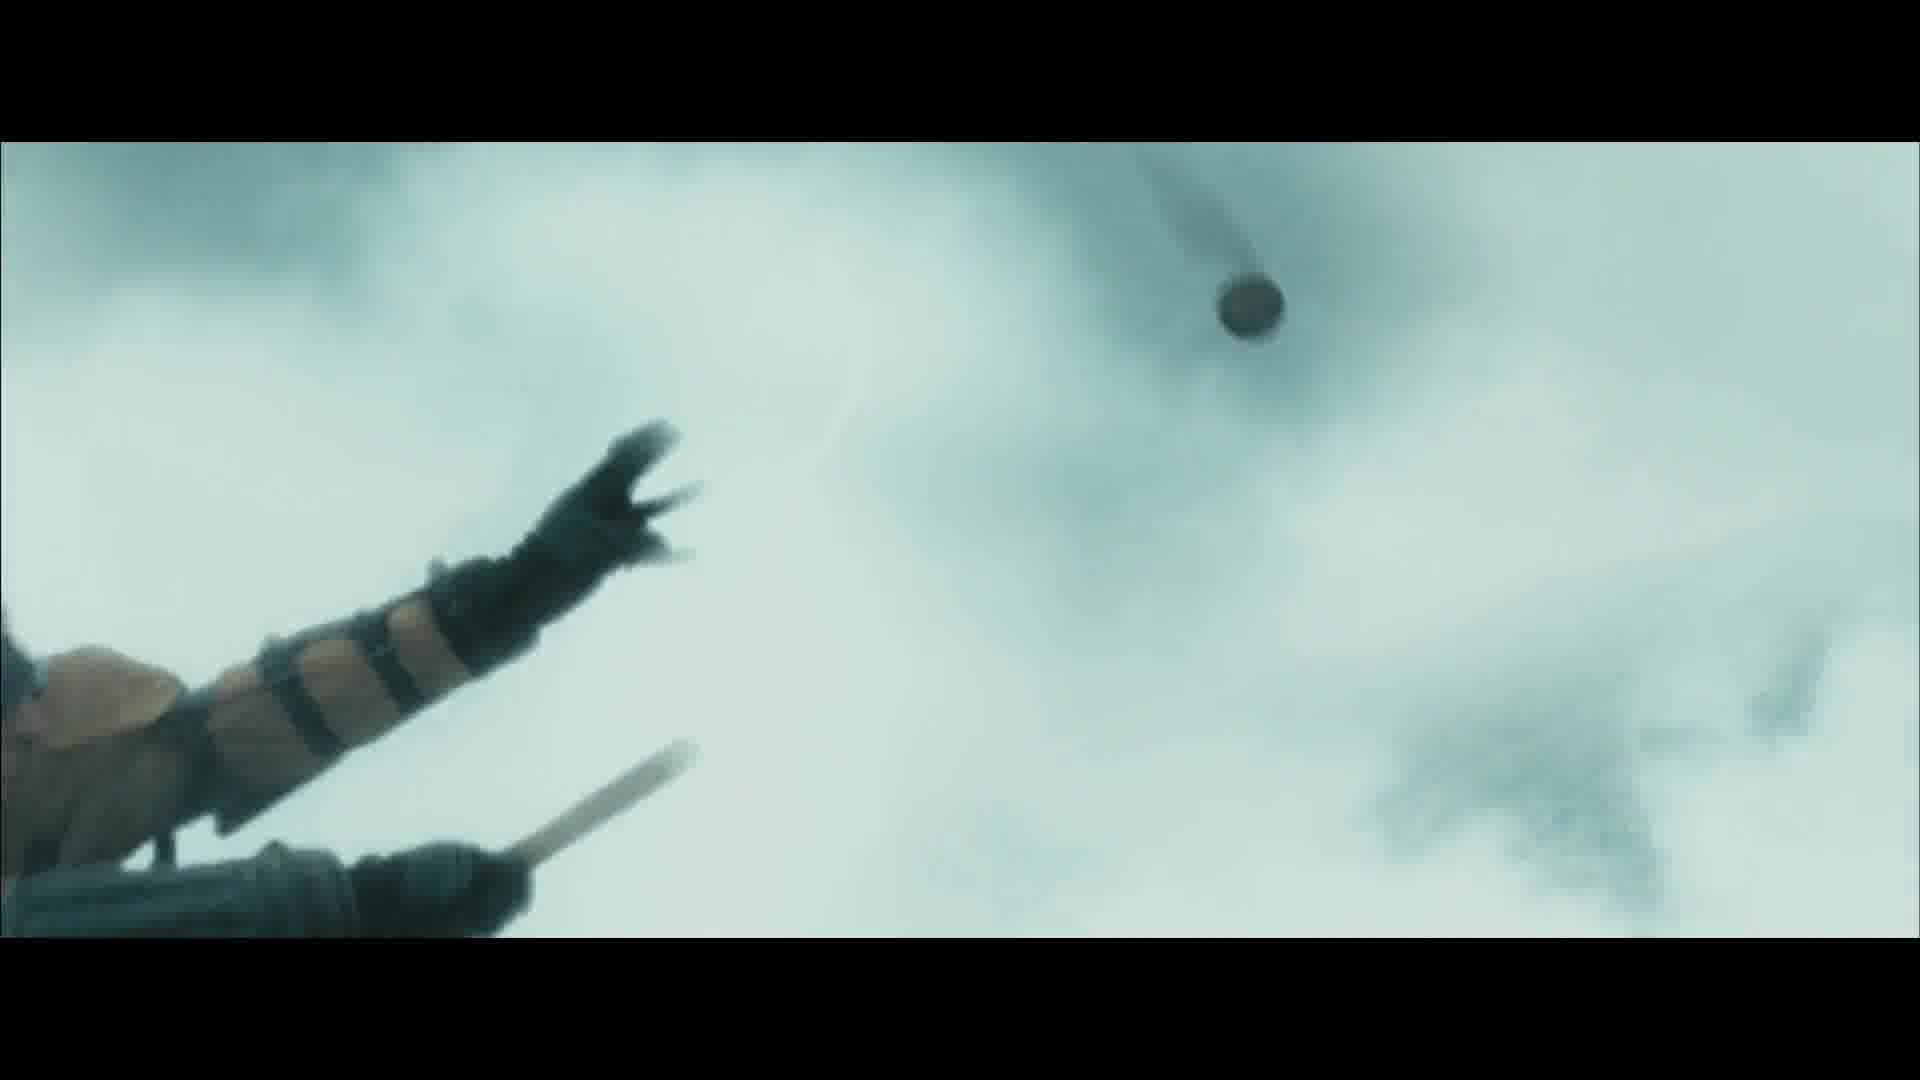snitch: (1212, 272, 1286, 343)
